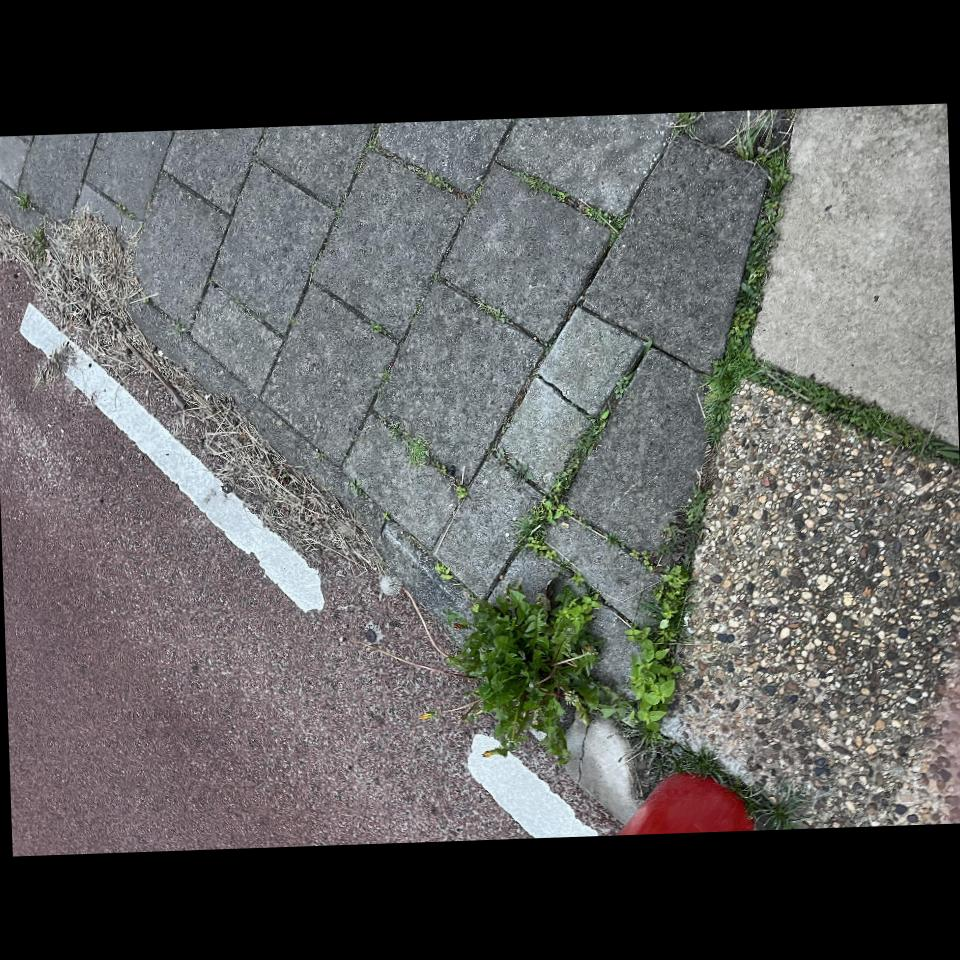weed: (280, 638, 501, 766), (277, 779, 511, 844), (53, 765, 104, 855), (286, 779, 357, 831), (214, 129, 223, 239)
